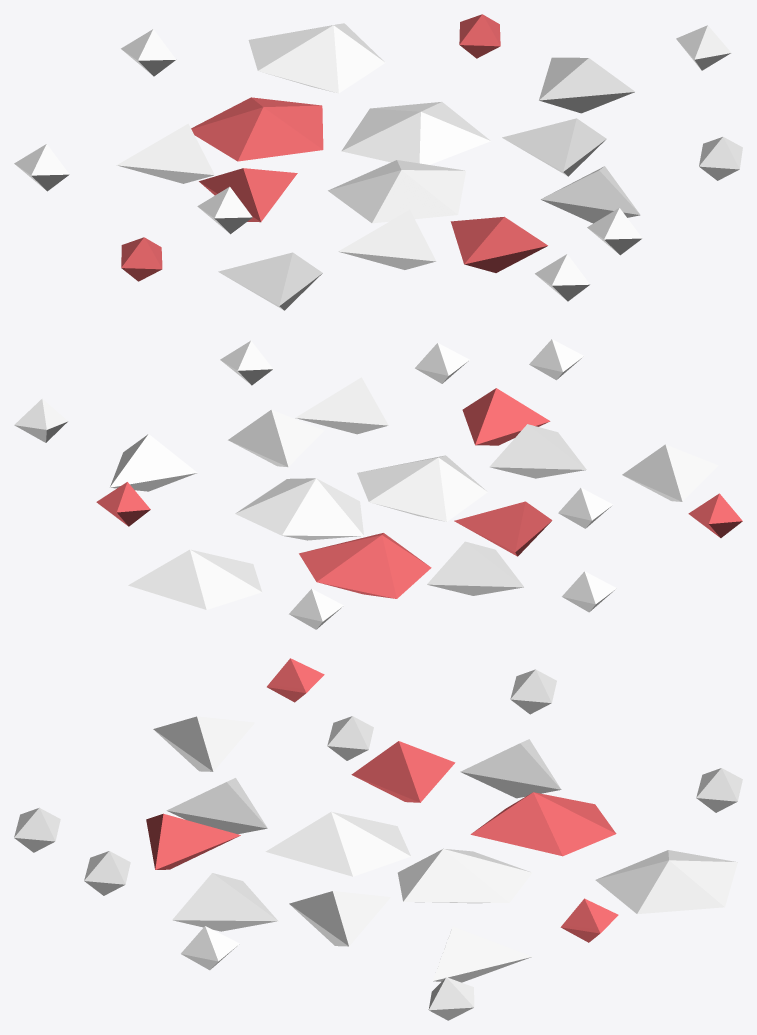
The model's file is ZLP_Flower_A_8.FBX.
3 views of the same model, one above another, from view 1: azimuth 30°, elevation 25°; view 2: azimuth 150°, elevation 25°; view 3: azimuth 270°, elevation 25° (orthographic). The views are drawn at different scales.
Visible parts, largest first — view 1: ZLP_Flower_A_8; view 2: ZLP_Flower_A_8; view 3: ZLP_Flower_A_8.
Part boxes in pixels (<box>): ZLP_Flower_A_8: <box>14,14,742,310</box>; ZLP_Flower_A_8: <box>14,339,742,629</box>; ZLP_Flower_A_8: <box>14,658,742,1020</box>.
Bounding box in the file's own units: 93.6 × 9.25 × 85.09.
